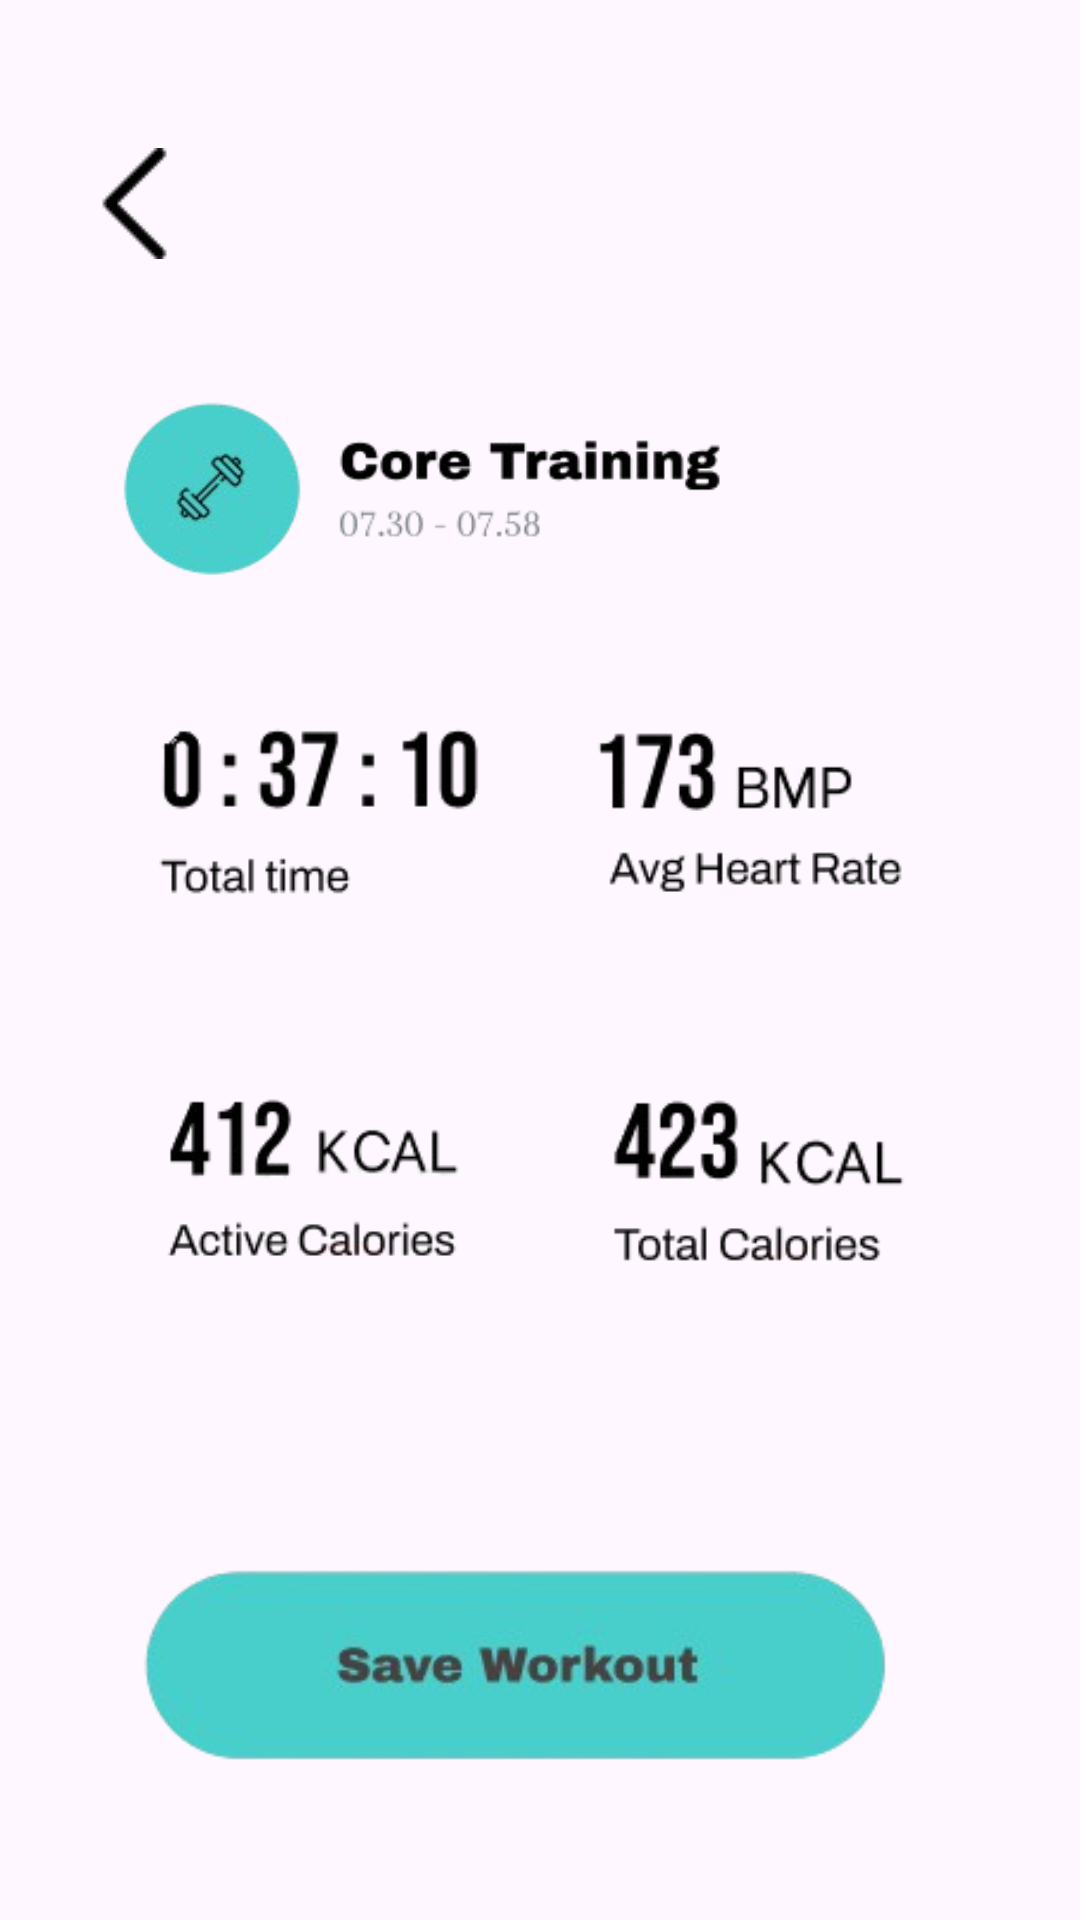

Named icons in this screenshot (1080px x 1920px) and their centers, point (x, y):
iconback: point (134, 203)
